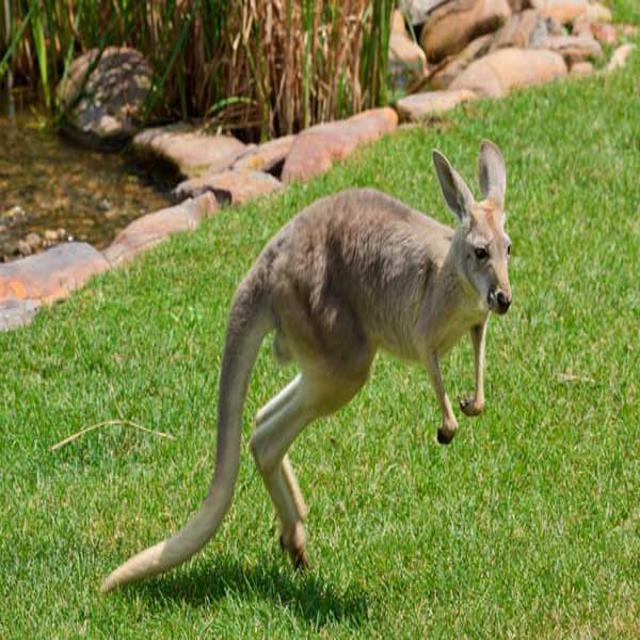kangaroo: (218, 139, 511, 570)
